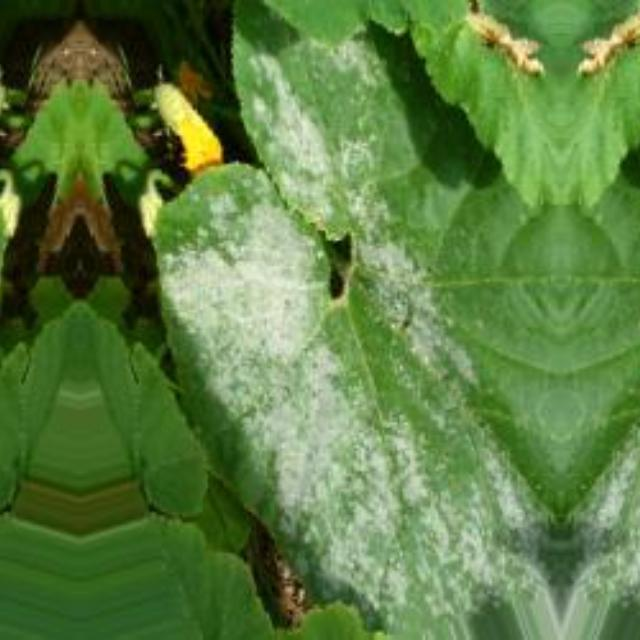Powdery_mildew: (163, 177, 534, 607), (585, 177, 640, 607), (235, 44, 399, 172)
